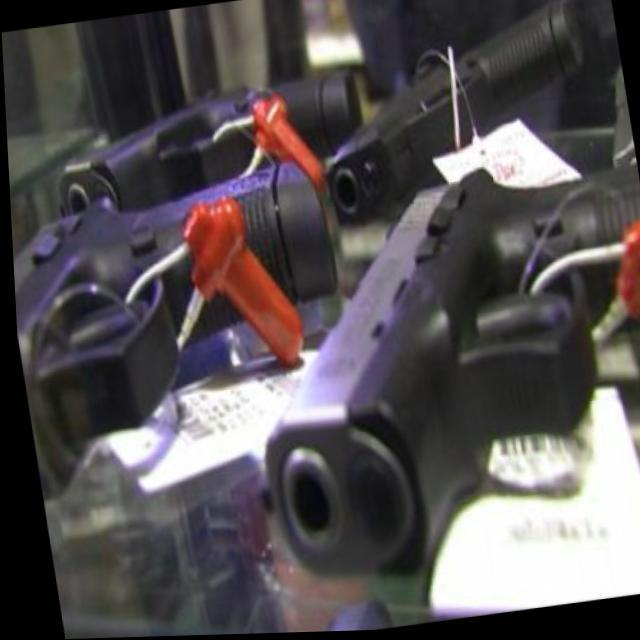weapon: (213, 122, 640, 616), (7, 145, 376, 522), (293, 0, 628, 239)
